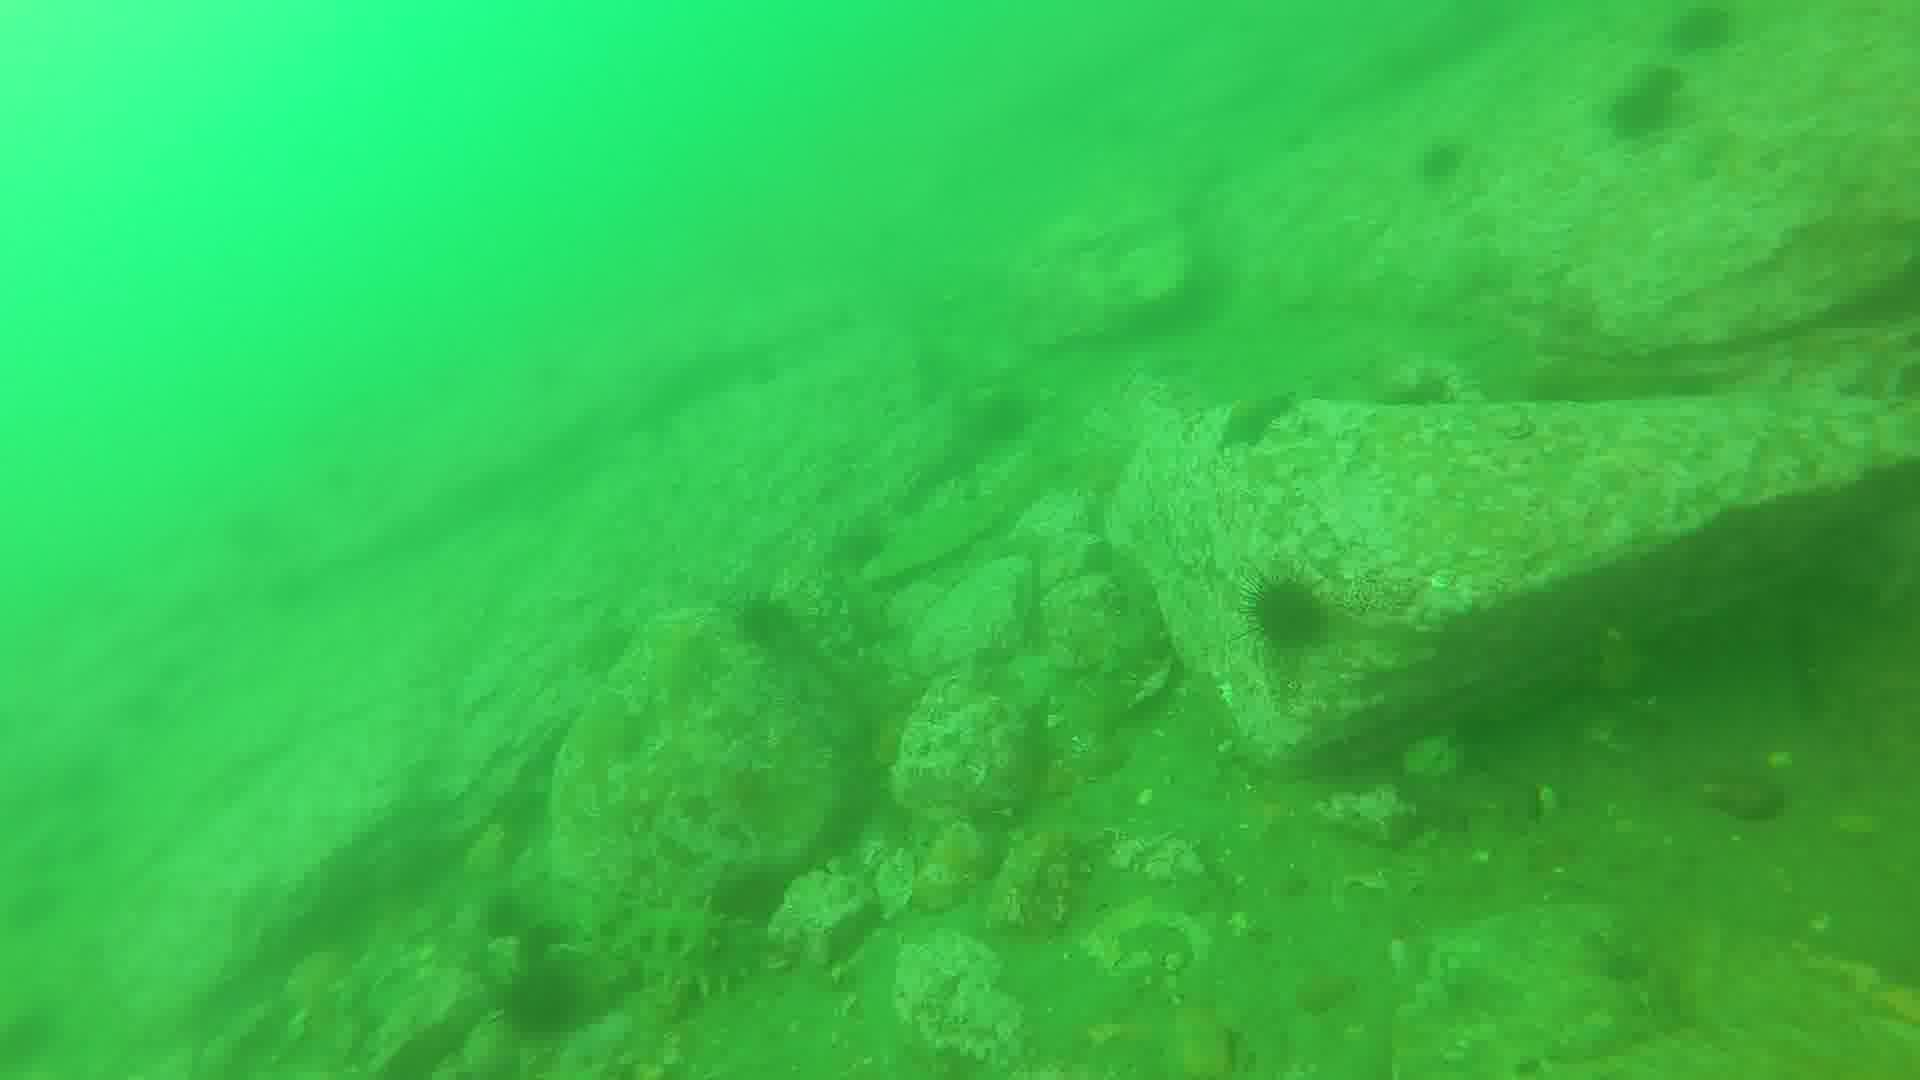echinus: (1242, 571, 1335, 662), (500, 952, 588, 1038), (1615, 70, 1688, 138), (1415, 138, 1469, 193), (1677, 7, 1734, 46)
holothurian: (616, 897, 777, 996)
